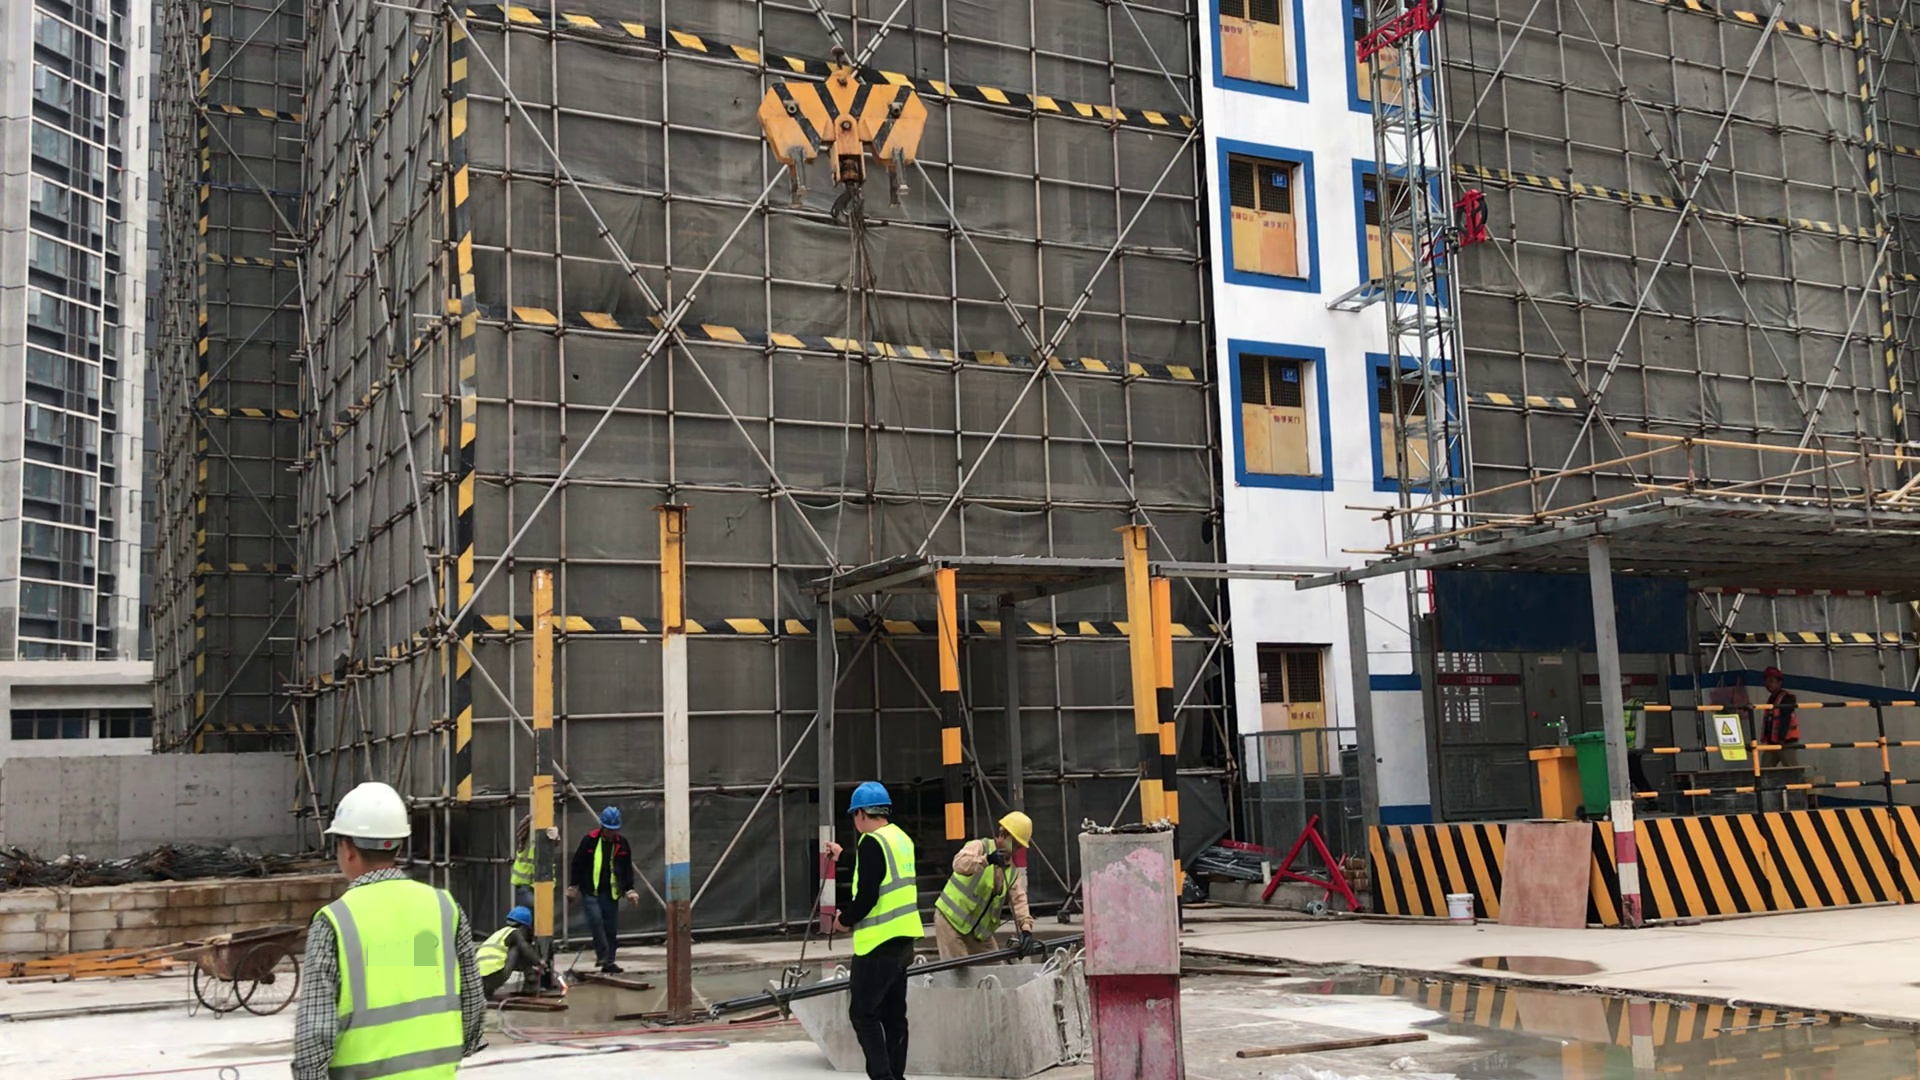helmet: (312, 773, 429, 842), (844, 769, 901, 814), (995, 792, 1039, 851), (500, 900, 542, 930), (600, 804, 638, 835), (1615, 667, 1641, 694), (1762, 662, 1791, 682)
person: (271, 754, 497, 1066), (813, 747, 937, 1080), (921, 761, 1056, 979), (566, 796, 647, 995), (470, 887, 565, 1012), (508, 781, 573, 920), (1760, 660, 1812, 786), (1615, 671, 1659, 799)
vest: (312, 878, 494, 1080), (833, 816, 930, 962), (940, 830, 1024, 951), (578, 822, 640, 918), (1756, 683, 1813, 756), (474, 916, 526, 985), (509, 815, 553, 896), (1616, 691, 1647, 755)
